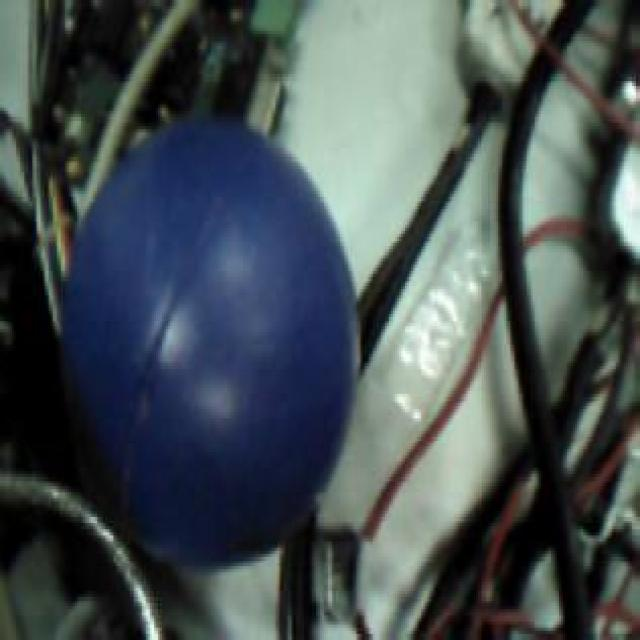BallPurple: (56, 115, 359, 566)
